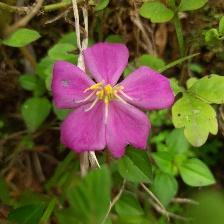malabar melastome: (51, 40, 176, 161)
